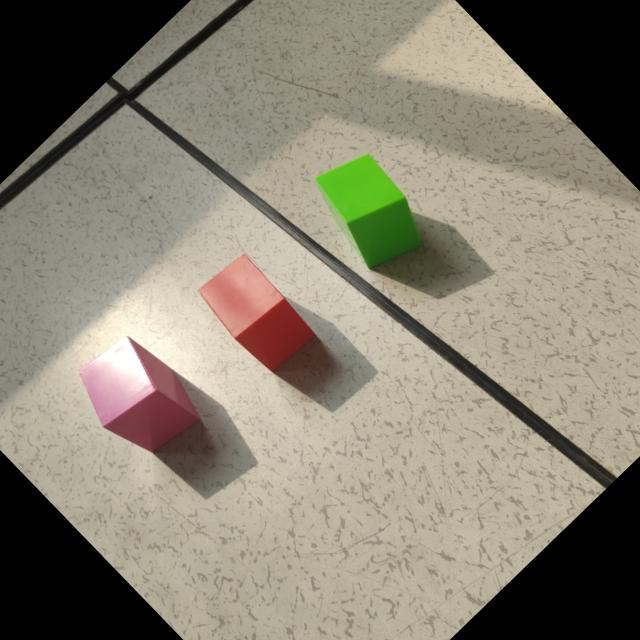green: (316, 155, 423, 271)
pink: (81, 337, 203, 455)
red: (200, 254, 318, 372)
